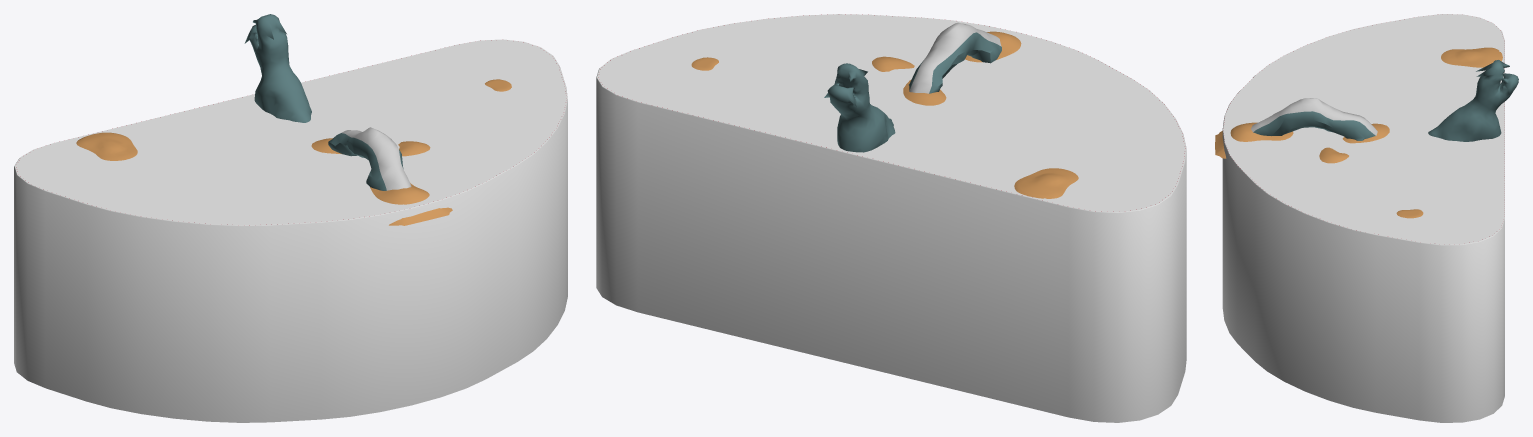
File: WWExterior.fbx
The picture shows the model from 3 angles, left to right: view 1: azimuth 30°, elevation 25°; view 2: azimuth 150°, elevation 25°; view 3: azimuth 270°, elevation 25°; orthographic projection. The views are drawn at different scales.
Visible parts, largest first — view 1: WWexteriorWater, StoneMouth, StoneArch, sand_island1, sand_island1.001, sand_island2; view 2: WWexteriorWater, StoneMouth, StoneArch, sand_island1.001, sand_island2; view 3: WWexteriorWater, StoneMouth, StoneArch, sand_island1.001, sand_island1, sand_island2.
Part boxes in pixels (x1,y1,x2,y2): WWexteriorWater: (14, 39, 567, 422); StoneMouth: (244, 14, 311, 122); StoneArch: (328, 127, 411, 190); sand_island1: (370, 183, 452, 225); sand_island1.001: (76, 132, 137, 160); sand_island2: (311, 138, 430, 156); WWexteriorWater: (596, 14, 1186, 422); StoneMouth: (824, 63, 895, 152); StoneArch: (909, 22, 1001, 93); sand_island1.001: (1014, 168, 1078, 198); sand_island2: (872, 56, 946, 105); WWexteriorWater: (1222, 14, 1504, 422); StoneMouth: (1428, 60, 1518, 141); StoneArch: (1251, 98, 1377, 140); sand_island1.001: (1441, 47, 1502, 67); sand_island1: (1215, 122, 1293, 158); sand_island2: (1319, 123, 1389, 163).
Size of what is drawn, in the model's own units: 4362 by 2420 by 2192.
